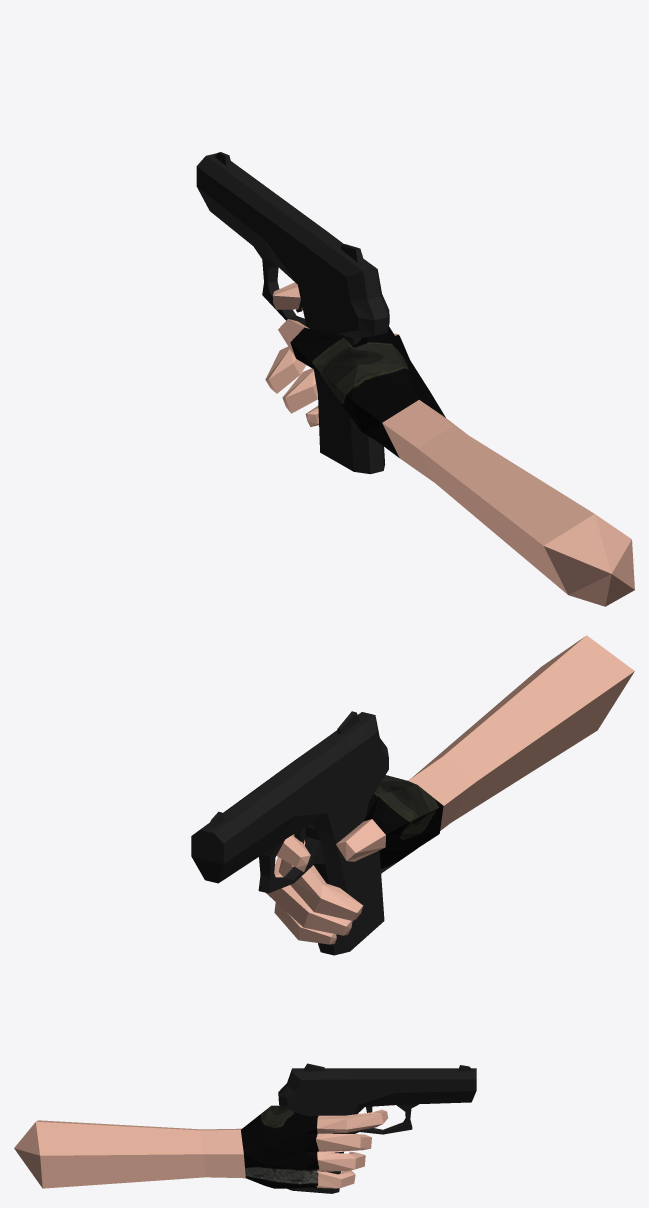
The model's file is rightHand.obj.
The picture shows the model from 3 angles, top to bottom: view 1: azimuth 30°, elevation 25°; view 2: azimuth 150°, elevation 25°; view 3: azimuth 270°, elevation 25°; orthographic projection. The views are drawn at different scales.
Visible parts, largest first — view 1: rightHand; view 2: rightHand; view 3: rightHand.
Boxes of the visible parts, box(x1,y1,x2,y2) form: rightHand: box(196, 152, 634, 606); rightHand: box(191, 635, 634, 955); rightHand: box(14, 1063, 476, 1193).
Size of the model in its own units: 1.06 by 1.92 by 7.47.
